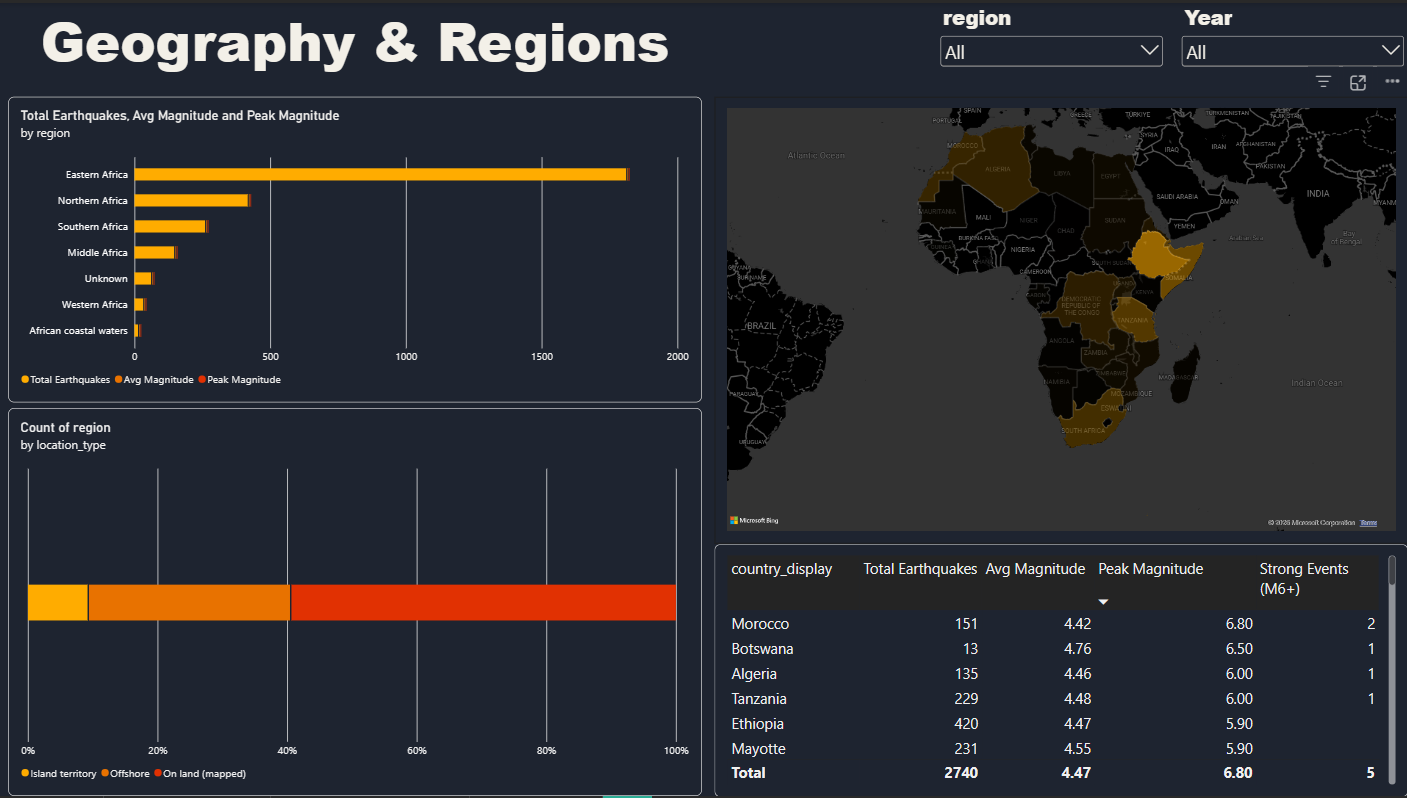

Layout of this report page (visuals, bound fields, positions):
{"tool":"powerbi","page":{"name":"Geography & Regions","canvas":[1920,1080],"ordinal":2},"visuals":[{"type":"textbox","box":[16,0,944,128],"z":0},{"type":"slicer","fields":{"Values":["Date.Year"]},"box":[1608,0,312,120],"z":1},{"type":"slicer","fields":{"Values":["Earthquakes.region"]},"box":[1280,0,312,120],"z":2},{"type":"barChart","fields":{"Category":["Earthquakes.region"],"Y":["Earthquakes.Total Earthquakes","Earthquakes.Avg Magnitude","Earthquakes.Peak Magnitude"]},"box":[16,128,944,416],"z":3},{"type":"hundredPercentStackedBarChart","fields":{"Series":["Earthquakes.location_type"],"Y":["CountNonNull(Earthquakes.region)"]},"box":[16,552,944,528],"z":4},{"type":"filledMap","fields":{"Category":["Earthquakes.country_display"]},"box":[976,128,944,608],"z":5},{"type":"tableEx","fields":{"Values":["Earthquakes.country_display","Earthquakes.Total Earthquakes","Earthquakes.Avg Magnitude","Earthquakes.Peak Magnitude","Earthquakes.Strong Events (M6+)"]},"box":[976,736,944,344],"z":6}]}

Visuals, with their boxes in screenshot pixels (x1, y1, x2, y2), scaled from the page's 1920x1080 canvas onto the 1407x798 screenshot:
textbox: left=12, top=0, right=704, bottom=95
slicer - Date.Year: left=1178, top=0, right=1406, bottom=89
slicer - Earthquakes.region: left=938, top=0, right=1167, bottom=89
barChart - Earthquakes.region x Earthquakes.Total Earthquakes: left=12, top=95, right=704, bottom=402
hundredPercentStackedBarChart - Earthquakes.location_type x CountNonNull(Earthquakes.region): left=12, top=408, right=704, bottom=797
filledMap - Earthquakes.country_display: left=715, top=95, right=1406, bottom=544
tableEx - Earthquakes.country_display x Earthquakes.Total Earthquakes: left=715, top=544, right=1406, bottom=797
